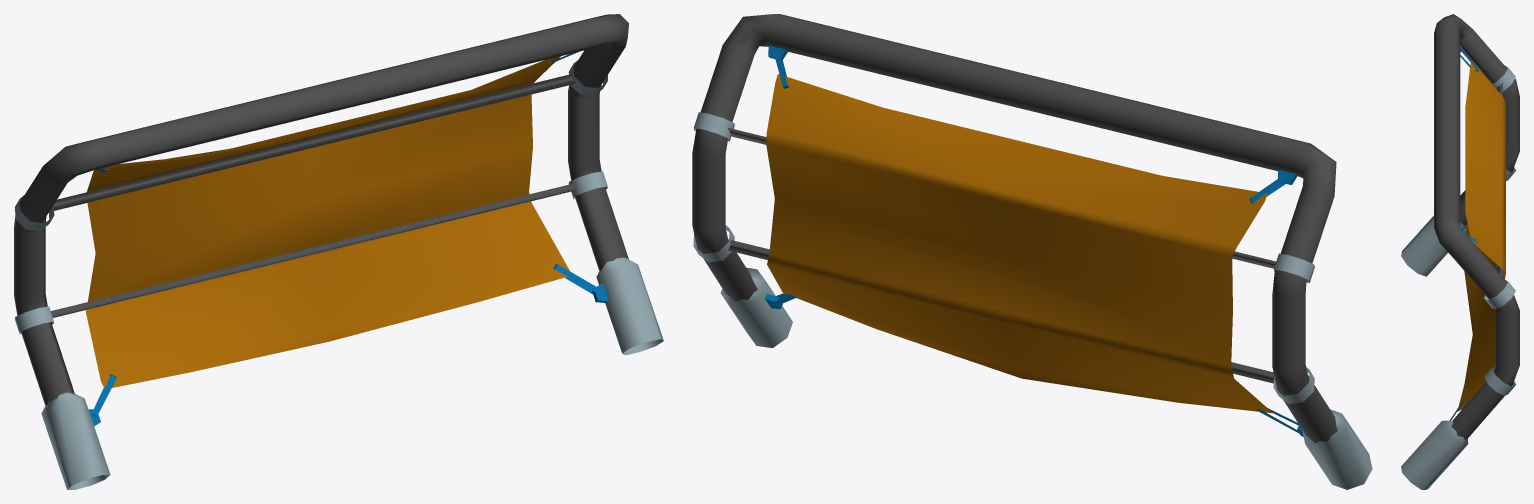
Rendered from env_building_warehouse01fence02A_lod1.fbx.
The picture shows the model from 3 angles, left to right: view 1: azimuth 30°, elevation 25°; view 2: azimuth 150°, elevation 25°; view 3: azimuth 270°, elevation 25°; orthographic projection. The views are drawn at different scales.
Visible parts, largest first — view 1: env_building_warehouse01fence02A_lod1; view 2: env_building_warehouse01fence02A_lod1; view 3: env_building_warehouse01fence02A_lod1.
Part boxes in pixels (x1,y1,x2,y2): env_building_warehouse01fence02A_lod1: (14,14,663,489); env_building_warehouse01fence02A_lod1: (692,14,1372,489); env_building_warehouse01fence02A_lod1: (1401,14,1519,489).
Size of the model in its own units: 61.65 by 33.14 by 13.54.
